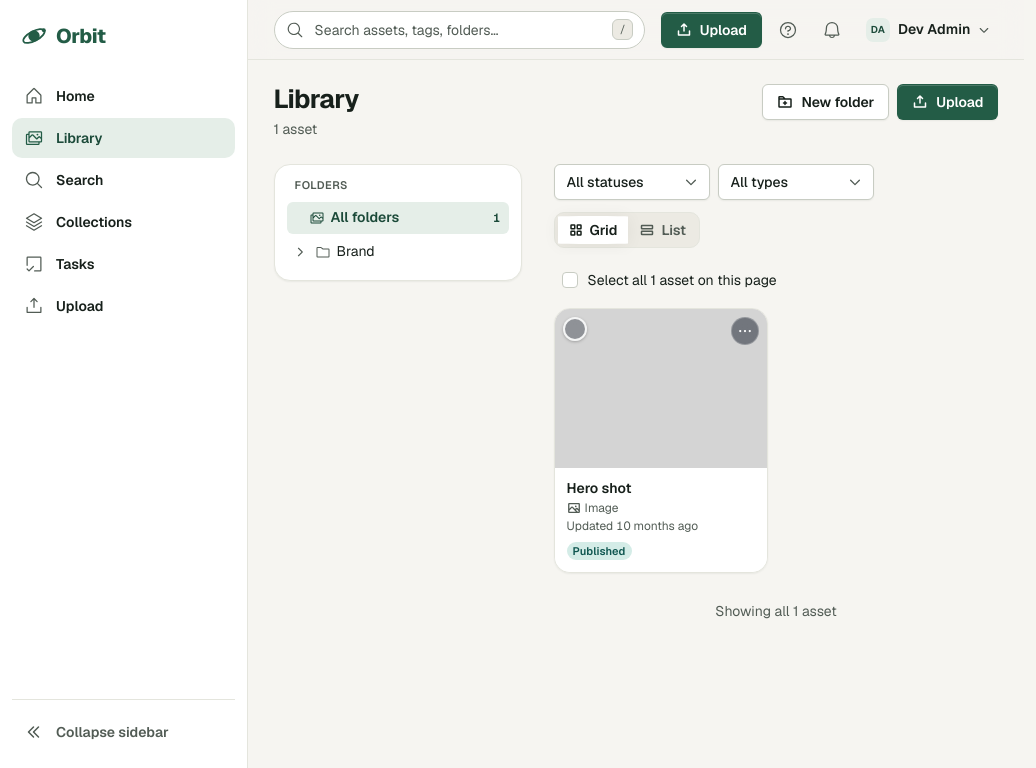
Test: LibraryPage › shows the thumbnail in the list view without asking for the links a second time
Expected: the text "Hero shot" is shown, [567,480,631,498]
Click the button "List": x=663, y=230 [630,216,696,244]
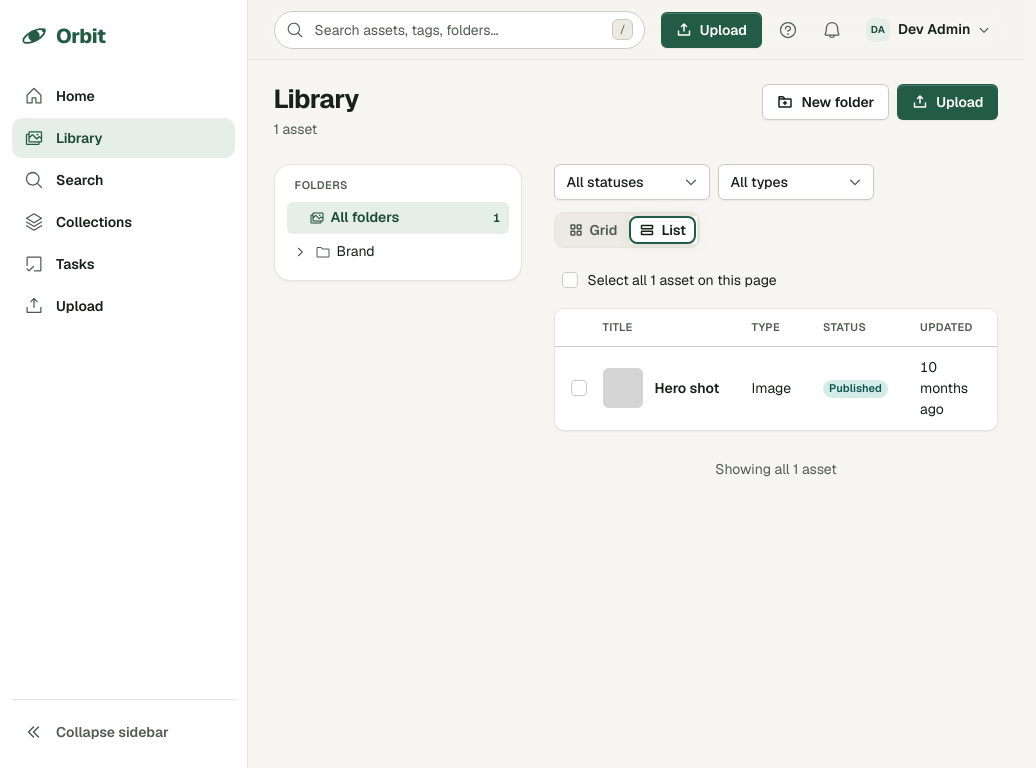
Result: the table is shown at [555,309,998,430]
